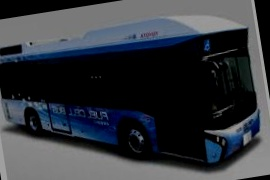bus: (0, 3, 269, 180)
